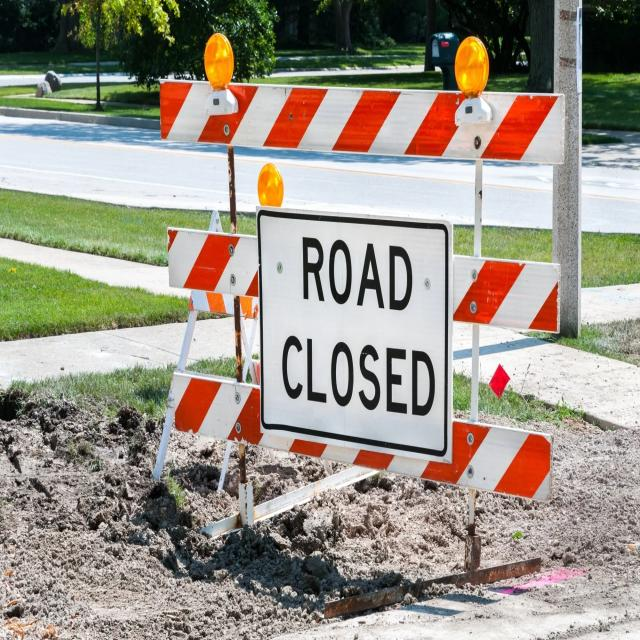cone: (152, 61, 566, 616)
